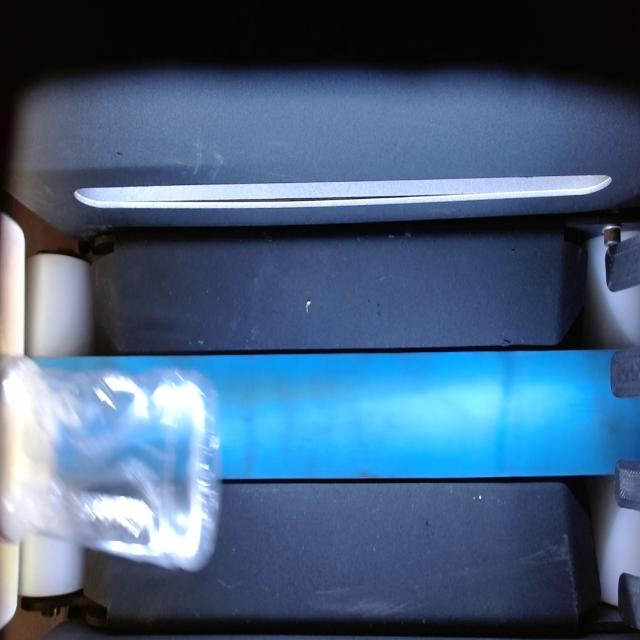bottom: (0, 358, 220, 570)
